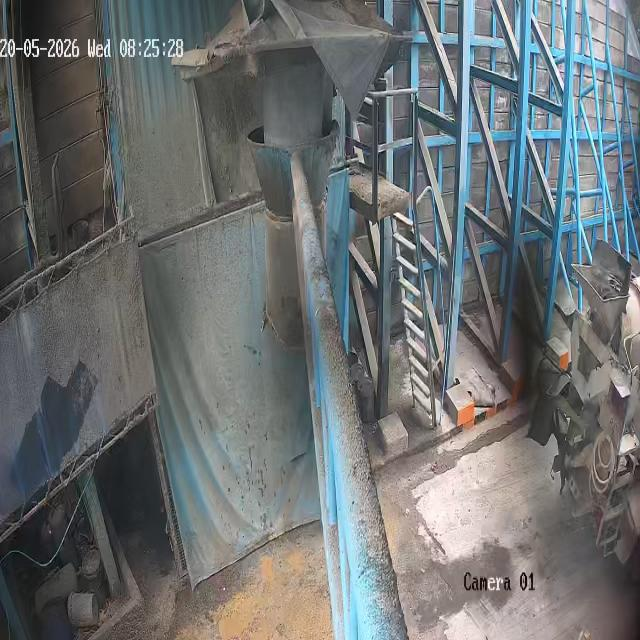cement_mixer_truck: (528, 241, 640, 563)
swing_chute: (249, 125, 340, 352)
